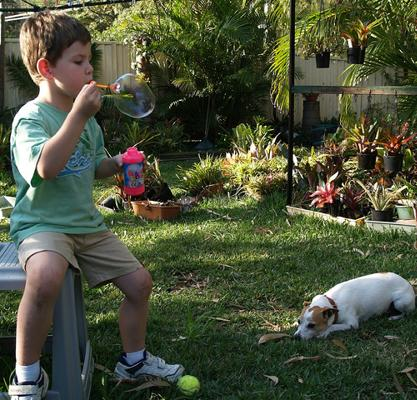person: (11, 14, 189, 398)
